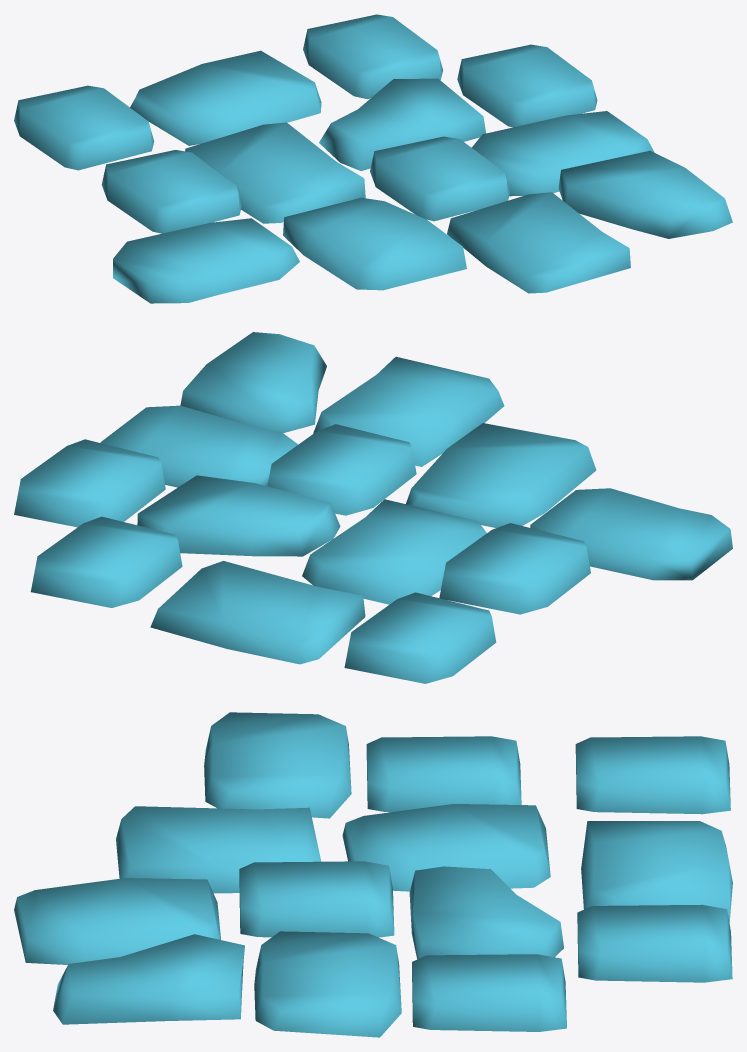
The model's file is group_stone_01.FBX.
3 renders of one model, top to bottom at view 1: azimuth 30°, elevation 25°; view 2: azimuth 150°, elevation 25°; view 3: azimuth 270°, elevation 25°, orthographic. The views are drawn at different scales.
Visible parts, largest first — view 1: group_stone_01; view 2: group_stone_01; view 3: group_stone_01.
Part boxes in pixels (x1=…): group_stone_01: x1=14, y1=14, x2=732, y2=303; group_stone_01: x1=14, y1=332, x2=732, y2=683; group_stone_01: x1=14, y1=712, x2=732, y2=1037.
Bounding box in the file's own units: 74.49 × 4.5 × 73.11.
